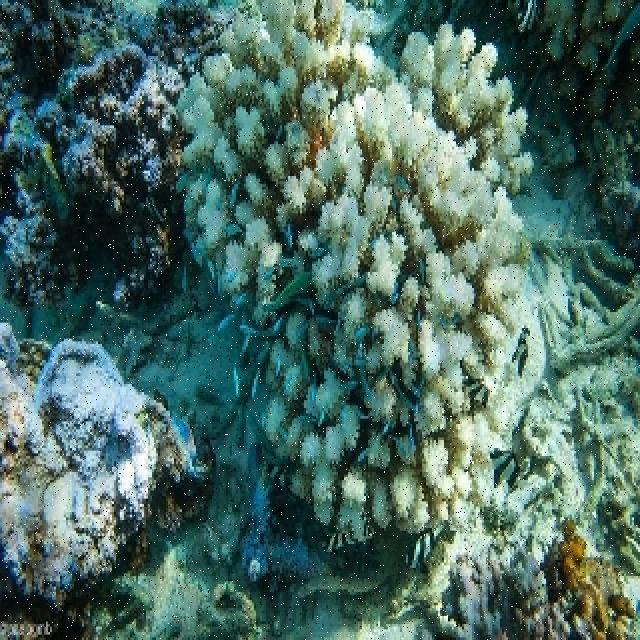fish: (489, 448, 519, 495), (406, 530, 442, 569), (514, 0, 541, 33), (517, 329, 530, 374)
reefs: (179, 1, 534, 543), (0, 320, 216, 610), (2, 42, 196, 296), (437, 534, 618, 637)
